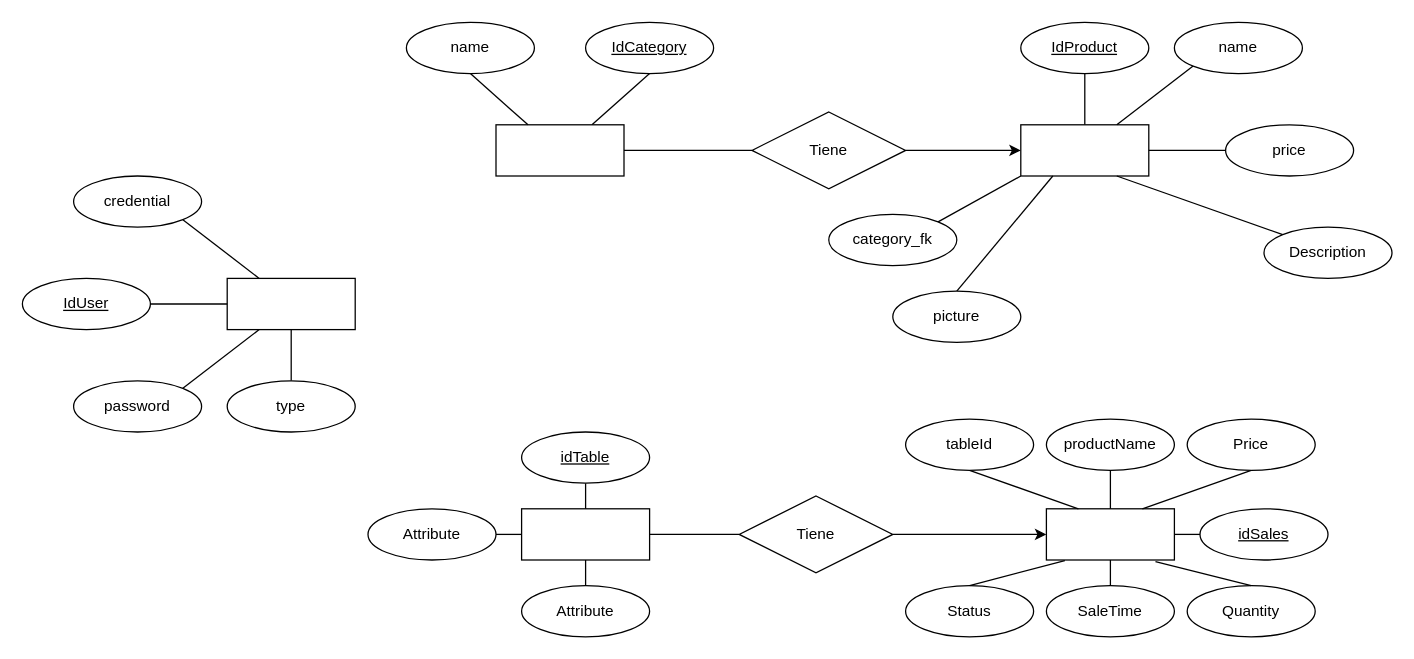
This 1414x659 diagram has some shape labels left out. The shapes that lost their labels are listed below. From the top down, each one's centre as x and y in pixels, then its label:
At [559,150]: "categories".
At [1084,150]: "products".
At [290,303]: "users".
At [585,534]: "TablesCustomers".
At [1109,534]: "Sales".
